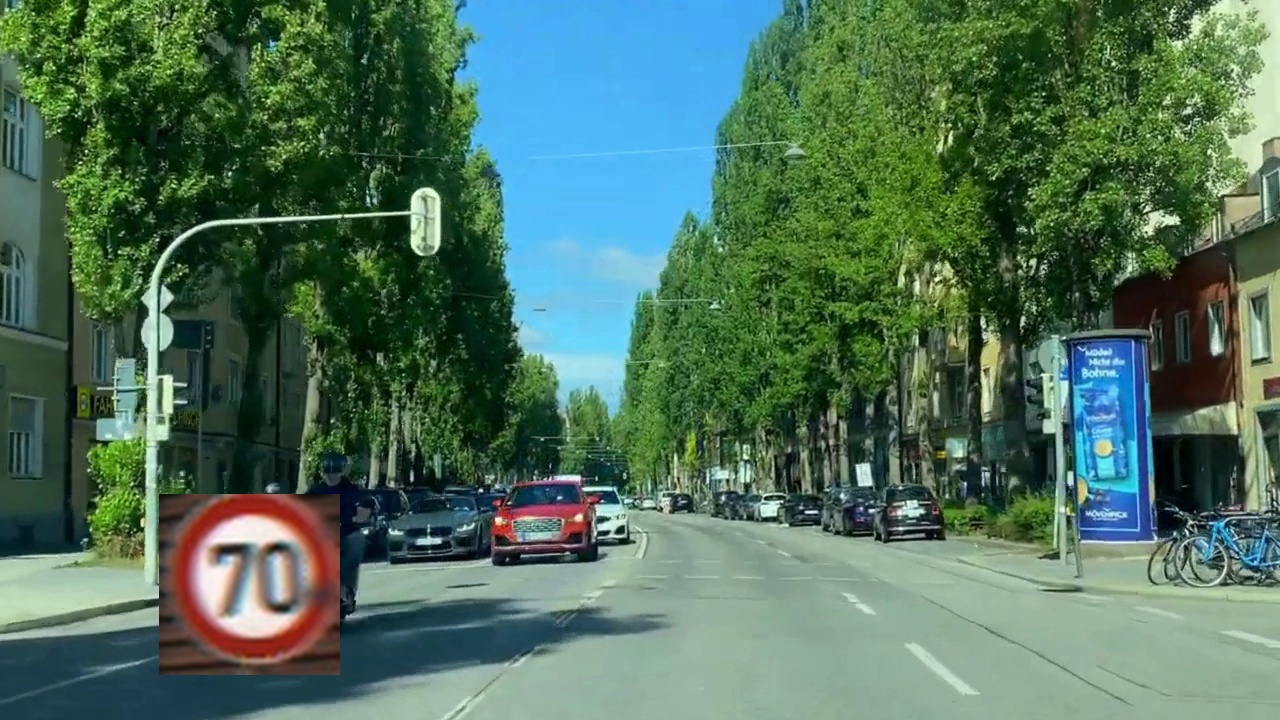Speed 70: (159, 494, 340, 675)
